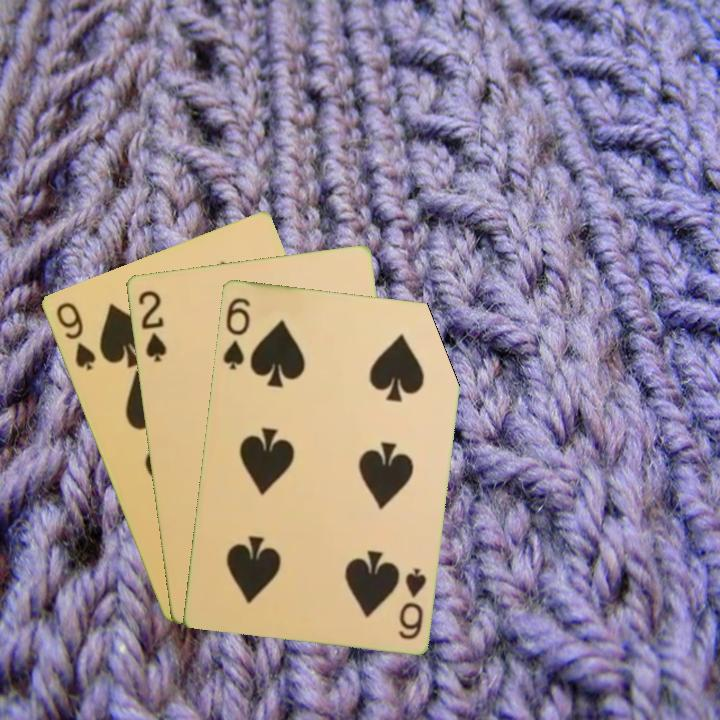2s: (134, 286, 169, 365)
6s: (394, 564, 429, 642), (219, 294, 253, 372)
9s: (52, 298, 98, 373)
